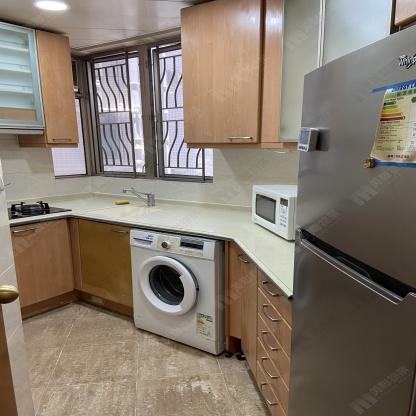Cupboard: (179, 0, 416, 151), (8, 219, 131, 324), (221, 238, 288, 416), (0, 20, 80, 148)
Faucet: (116, 184, 159, 209)
Fridge: (286, 25, 416, 416)
Microwave: (252, 184, 296, 240)
Sink: (83, 204, 167, 218)
Stove: (6, 199, 72, 219)
Washing Machine: (126, 231, 226, 357)
